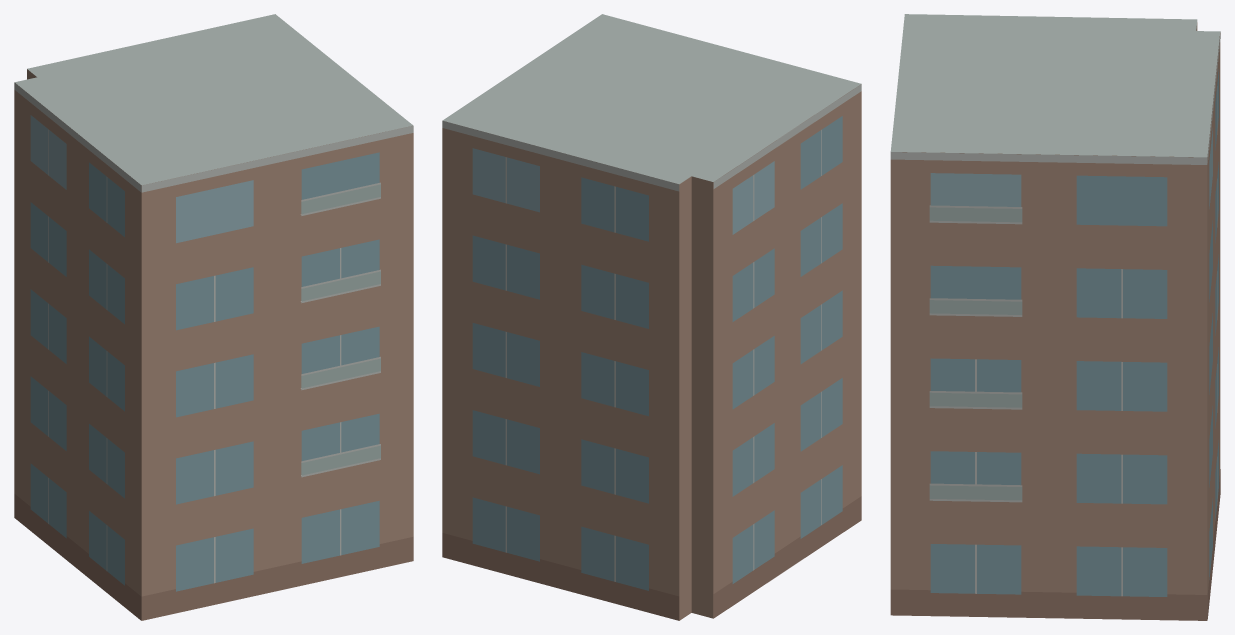
Rendered from survey-upis-32662662.glb.
3 views of the same model, side by side, from view 1: azimuth 30°, elevation 25°; view 2: azimuth 150°, elevation 25°; view 3: azimuth 270°, elevation 25° (orthographic). The views are drawn at different scales.
Visible parts, largest first — view 1: survey-upis-32662662.tmp; view 2: survey-upis-32662662.tmp; view 3: survey-upis-32662662.tmp.
Part boxes in pixels (left/top/right/bottom): survey-upis-32662662.tmp: left=14, top=14, right=413, bottom=620; survey-upis-32662662.tmp: left=442, top=14, right=861, bottom=620; survey-upis-32662662.tmp: left=890, top=14, right=1220, bottom=620.
Size of the model in its own units: 9.69 by 14.6 by 9.42.
